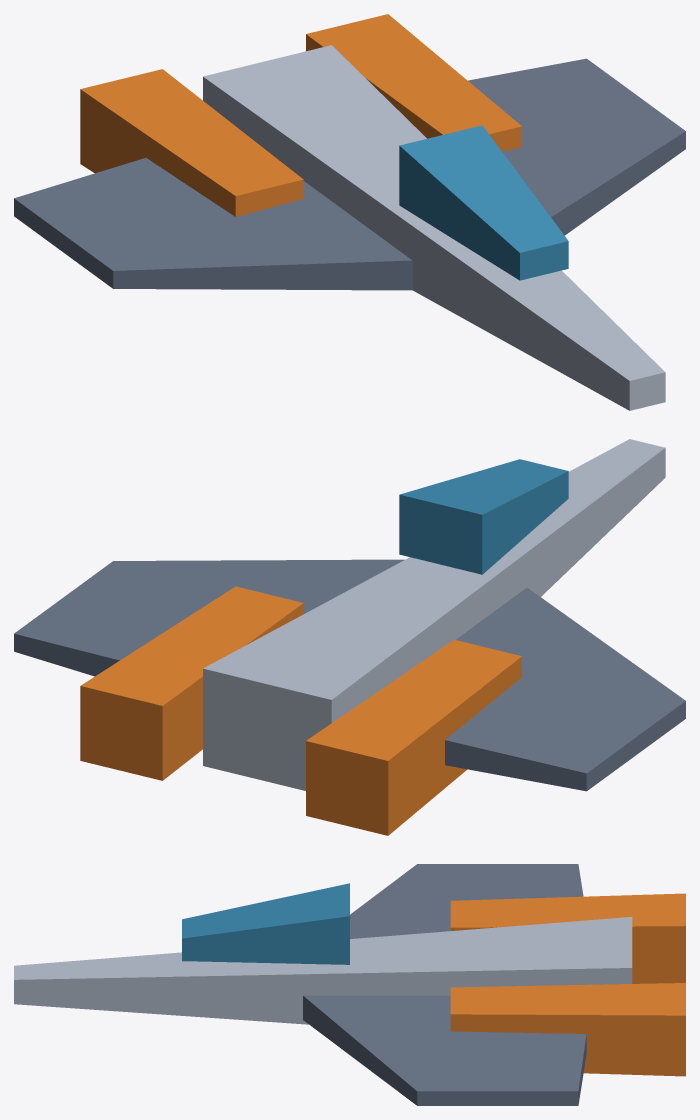
File: interceptor.obj
3 views of the same model, one above another, from view 1: azimuth 30°, elevation 25°; view 2: azimuth 150°, elevation 25°; view 3: azimuth 270°, elevation 25° (orthographic). The views are drawn at different scales.
Bounding box in the file's own units: 0.8 × 0.2 × 1.
